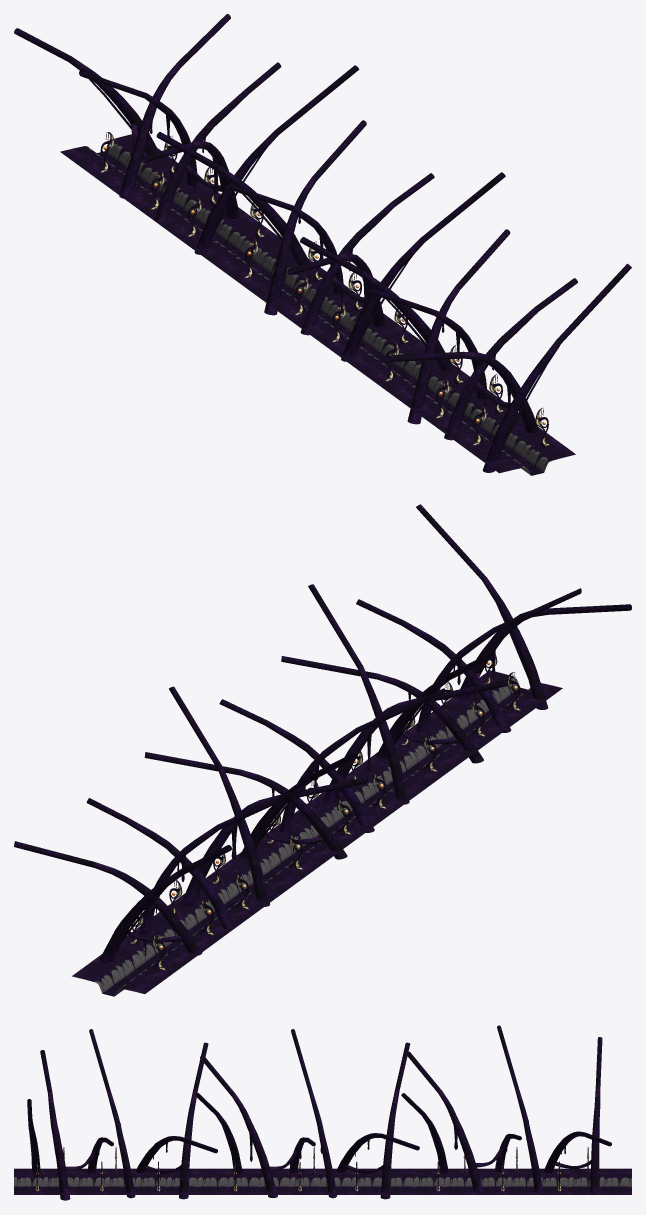
Rendered from map_hatr_03.fbx.
The picture shows the model from 3 angles, top to bottom: view 1: azimuth 30°, elevation 25°; view 2: azimuth 150°, elevation 25°; view 3: azimuth 270°, elevation 25°; orthographic projection. The views are drawn at different scales.
Parts seen in each view (by area): view 1: map_hatr_02; view 2: map_hatr_02; view 3: map_hatr_02.
Boxes of the visible parts, <box> form: map_hatr_02: <box>14,14,631,475</box>; map_hatr_02: <box>14,504,631,996</box>; map_hatr_02: <box>14,1025,631,1200</box>.
Size of the model in its own units: 9689 by 7036 by 30000.
